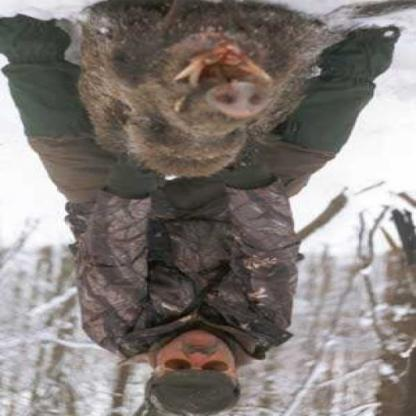boar: (72, 0, 358, 229)
